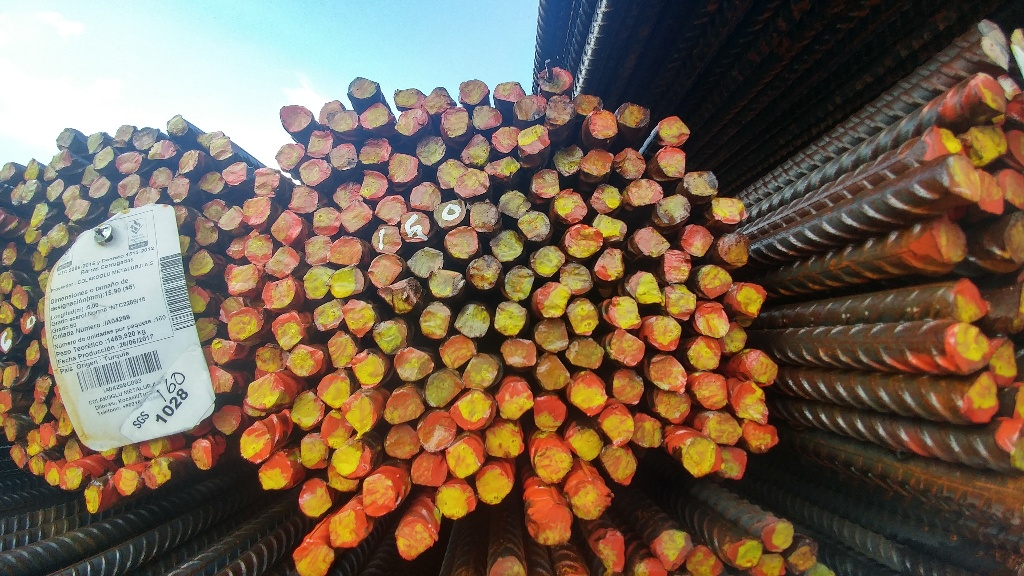dipstick: (528, 500, 577, 545), (731, 378, 774, 428), (255, 448, 301, 494), (594, 445, 644, 487), (567, 367, 609, 416), (447, 390, 497, 429), (361, 474, 404, 518), (242, 372, 286, 415), (444, 434, 486, 479), (341, 389, 378, 439), (394, 518, 435, 562), (557, 221, 606, 257), (415, 408, 455, 452), (473, 465, 515, 506), (599, 402, 638, 445), (651, 530, 695, 568), (532, 438, 573, 478), (648, 354, 690, 393), (691, 372, 734, 410), (410, 447, 448, 490), (531, 280, 571, 320), (563, 424, 604, 463), (660, 282, 702, 320), (436, 482, 478, 520), (393, 343, 436, 380), (606, 328, 648, 365), (485, 423, 527, 460), (698, 410, 742, 445), (380, 388, 424, 423), (646, 313, 685, 351), (296, 478, 333, 518), (601, 295, 643, 330), (239, 422, 274, 464), (743, 348, 782, 385), (270, 209, 309, 246), (454, 301, 493, 338), (292, 540, 332, 576), (465, 254, 506, 289), (365, 253, 407, 287), (697, 262, 735, 299), (625, 269, 663, 306), (316, 371, 354, 408), (696, 302, 735, 338), (270, 311, 306, 350), (655, 388, 695, 423), (730, 282, 771, 316), (528, 318, 570, 351), (566, 297, 603, 334), (384, 423, 421, 460), (329, 509, 366, 546), (532, 393, 568, 431), (290, 392, 328, 428), (718, 231, 753, 270), (424, 370, 463, 405), (597, 529, 628, 573), (564, 337, 605, 370), (632, 226, 674, 258), (286, 342, 323, 378), (682, 434, 717, 472), (490, 227, 526, 263), (440, 334, 476, 370), (687, 336, 724, 371), (295, 434, 332, 469), (615, 98, 653, 132), (611, 147, 649, 181), (630, 412, 664, 450), (497, 338, 538, 369), (554, 187, 589, 223), (406, 248, 451, 276), (533, 355, 570, 389), (613, 368, 646, 406), (514, 123, 553, 155), (227, 309, 267, 340), (656, 112, 694, 144), (342, 299, 374, 337), (344, 71, 383, 102), (295, 157, 335, 187), (452, 167, 492, 197), (760, 517, 794, 552), (266, 247, 299, 283), (557, 261, 594, 293), (328, 266, 366, 297), (327, 329, 358, 367), (538, 65, 578, 94), (437, 107, 473, 139), (529, 244, 565, 276), (444, 226, 478, 259), (684, 220, 716, 255), (426, 268, 466, 296), (375, 320, 410, 352), (420, 301, 451, 337), (407, 181, 444, 211), (626, 179, 667, 206), (665, 246, 691, 288), (494, 301, 527, 334), (713, 196, 748, 227), (224, 264, 259, 295), (284, 183, 320, 213), (657, 144, 688, 178), (278, 102, 313, 132), (328, 235, 363, 265), (459, 136, 492, 167), (361, 167, 396, 196), (684, 170, 720, 198), (210, 403, 242, 434), (596, 247, 626, 280), (579, 150, 617, 176), (690, 544, 724, 573), (415, 134, 446, 165), (311, 207, 342, 238), (658, 194, 691, 223), (339, 202, 372, 231), (468, 202, 501, 231), (327, 143, 360, 172), (205, 364, 238, 393), (497, 189, 533, 215), (209, 337, 241, 366), (141, 459, 173, 488), (589, 184, 622, 212), (298, 268, 331, 296), (359, 137, 392, 164), (370, 226, 403, 253), (532, 167, 561, 197), (422, 85, 453, 113), (193, 215, 221, 246), (188, 440, 217, 469), (459, 78, 488, 106), (253, 168, 282, 196), (590, 111, 620, 138), (276, 141, 306, 168), (396, 109, 431, 132), (520, 212, 548, 240), (720, 450, 748, 478), (243, 196, 272, 223), (109, 468, 140, 493), (221, 160, 251, 185), (327, 110, 360, 132), (215, 205, 244, 229), (474, 105, 503, 128), (184, 285, 208, 312), (116, 149, 144, 172), (391, 85, 421, 106), (84, 482, 104, 513), (200, 170, 224, 195), (177, 151, 203, 174), (21, 340, 44, 366), (147, 139, 176, 159), (32, 375, 52, 404), (166, 114, 190, 138), (65, 197, 91, 219), (147, 167, 174, 188), (8, 282, 29, 309), (208, 136, 231, 159), (30, 249, 52, 273), (61, 465, 81, 491), (42, 460, 61, 487), (28, 403, 51, 425), (495, 81, 523, 99), (133, 127, 157, 148), (170, 178, 190, 203), (579, 91, 601, 112), (1, 364, 20, 388), (24, 159, 45, 180), (48, 225, 68, 247), (10, 445, 29, 468), (32, 203, 50, 227), (51, 150, 74, 168), (38, 423, 56, 446), (85, 134, 109, 151), (2, 418, 19, 442), (89, 177, 110, 196), (46, 179, 64, 201), (57, 130, 78, 146), (122, 446, 139, 465)
w: (186, 247, 219, 276), (202, 198, 228, 221)
